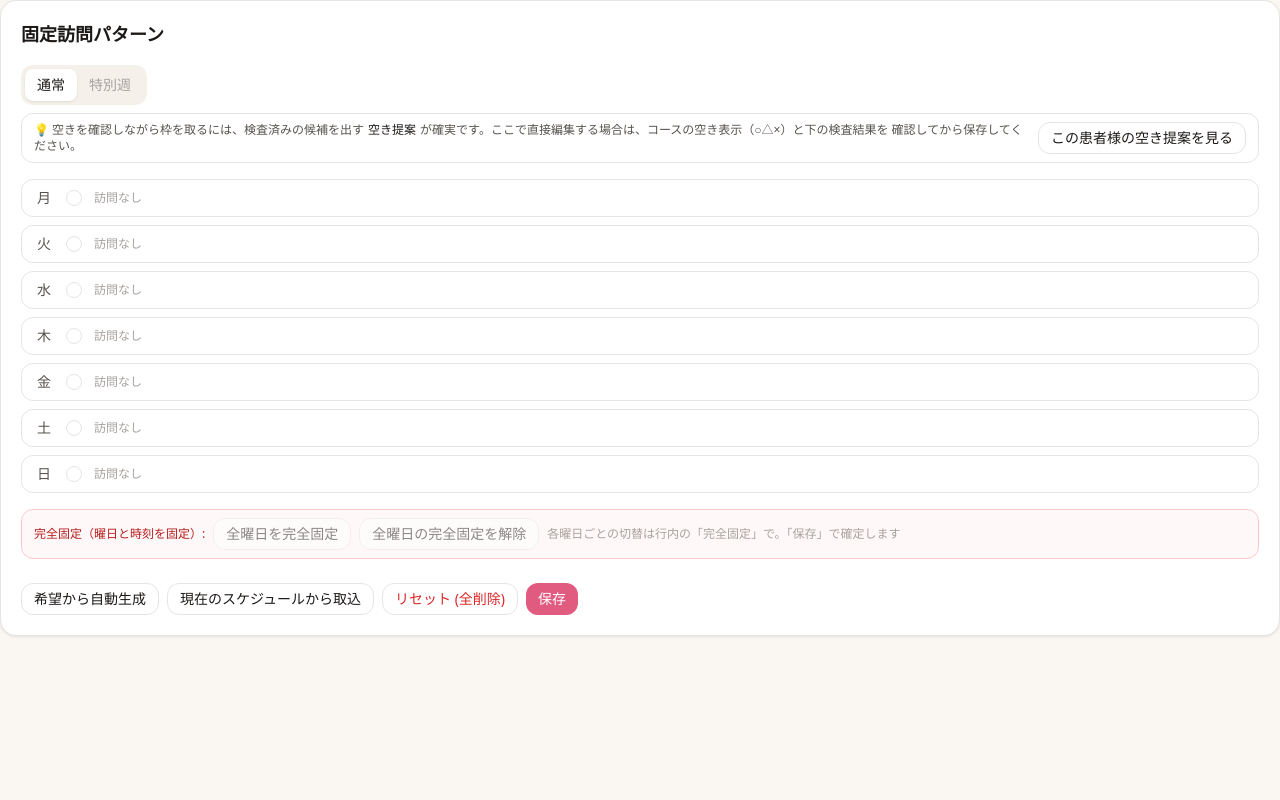
Test: PatientFixedVisitsPanel › 案Z (賢いマスタ) › SM-2. 入力中ライブ検査 — 警告が常設表示される (トーストではない)
Click the checkbox named "月曜日 訪問あり": (74, 198) [66,190,82,206]
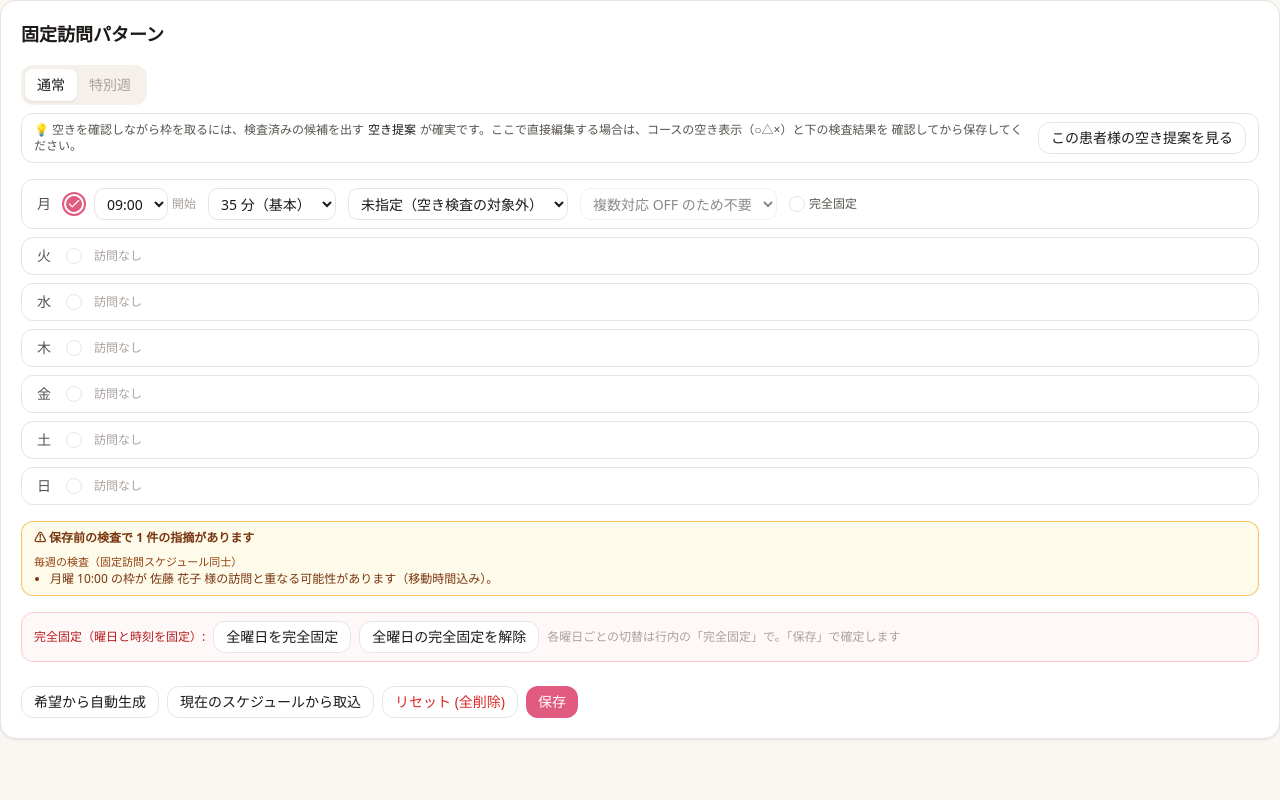
Result: the element with test id "pfv-live-warnings" shows "佐藤 花子 様の訪問と重なる可能性" at [50,570,498,586]
